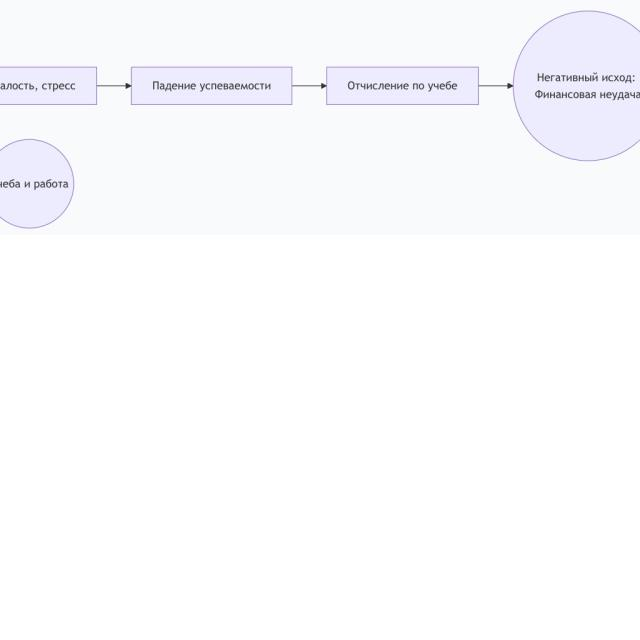arrow: (479, 84, 513, 88), (98, 84, 131, 88), (293, 84, 326, 88)
rectangle: (131, 67, 292, 104), (327, 67, 478, 104)
